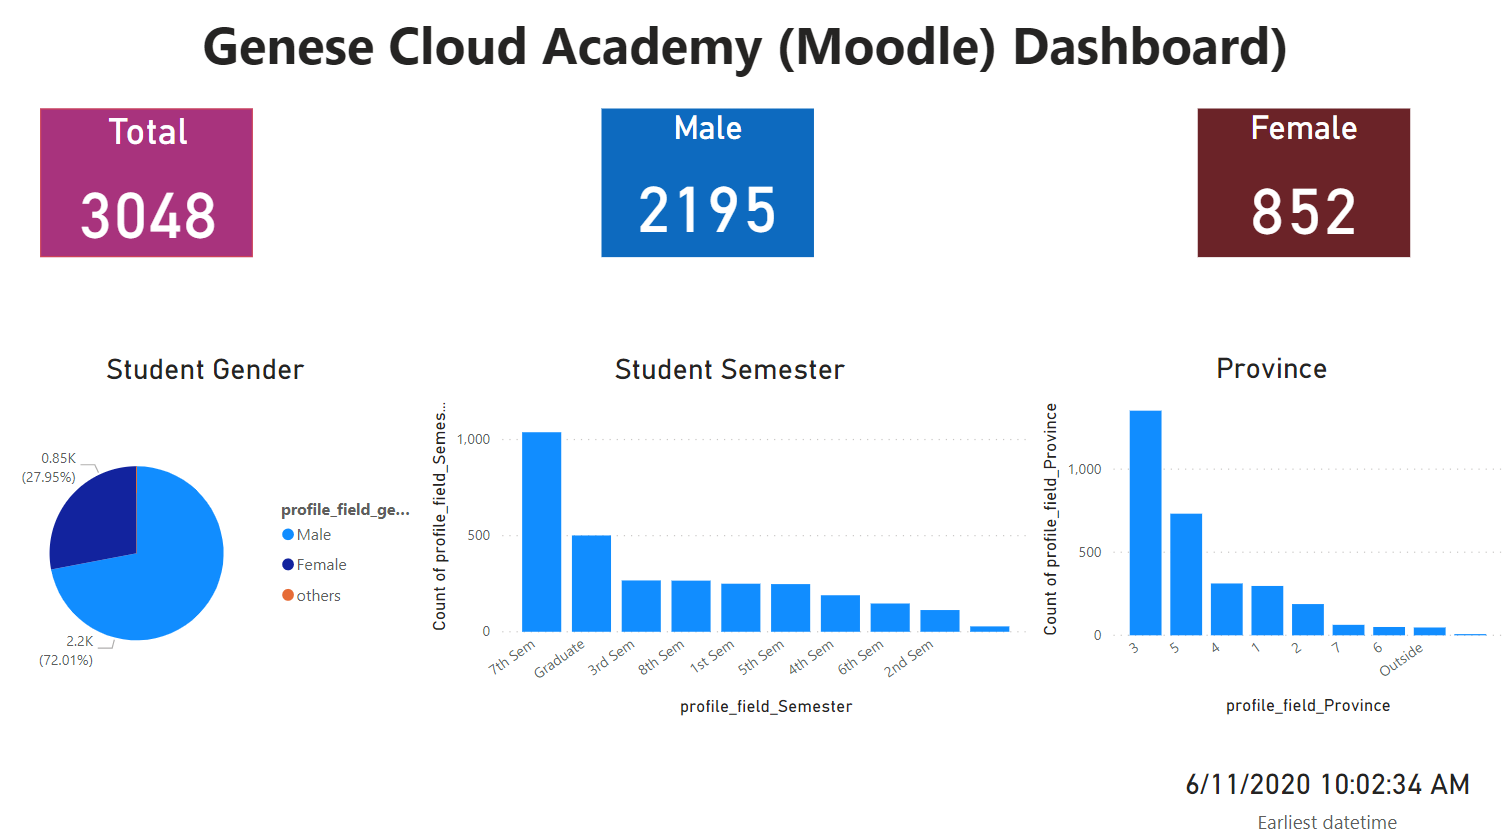

What the dashboard file says about the page in this screenshot:
{"tool":"powerbi","page":{"name":"Dashboard","canvas":[1280,720],"ordinal":0},"visuals":[{"type":"pieChart","title":"Student Gender","fields":{"Category":["user_latest.profile_field_gender1"],"Series":["user_latest.profile_field_gender1"],"Y":["CountNonNull(user_latest.profile_field_gender)"]},"box":[2.1,303.2,367.2,310.5],"z":0},{"type":"columnChart","title":"Student Semester","fields":{"Category":["user_latest.profile_field_Semester1"],"Y":["CountNonNull(user_latest.profile_field_Semester)1"]},"box":[369.4,303.2,513.4,310.5],"z":1000},{"type":"columnChart","title":"Province","fields":{"Category":["user_latest.profile_field_Province1"],"Y":["CountNonNull(user_latest.profile_field_Province)1"]},"box":[882.3,302.7,397.4,310.5],"z":2000},{"type":"card","title":"Total","fields":{"Values":["CountNonNull(user_latest.id)"]},"box":[47.1,98.8,178.8,124.4],"z":3000},{"type":"card","title":"Male","fields":{"Values":["CountNonNull(user_latest.profile_field_gender)"]},"box":[518.2,98.8,178.8,124.4],"z":4000},{"type":"card","title":"Female","fields":{"Values":["CountNonNull(user_latest.profile_field_gender)"]},"box":[1019.5,98.8,178.8,124.4],"z":5000},{"type":"textbox","box":[0,10.9,1279.3,72.5],"z":6000},{"type":"card","fields":{"Values":["Min(Kathmandu.datetime)"]},"box":[994.2,641.5,268.2,68.9],"z":7000}]}

Visuals, with their boxes in screenshot pixels (x1, y1, x2, y2), scaled from the page's 1280x720 canvas onto the 1507x840 screenshot:
"Student Gender" pieChart: bbox=(2, 354, 435, 716)
"Student Semester" columnChart: bbox=(435, 354, 1039, 716)
"Province" columnChart: bbox=(1039, 353, 1506, 715)
"Total" card: bbox=(55, 115, 266, 260)
"Male" card: bbox=(610, 115, 821, 260)
"Female" card: bbox=(1200, 115, 1411, 260)
textbox: bbox=(0, 13, 1506, 97)
card - Min(Kathmandu.datetime): bbox=(1171, 748, 1486, 829)
